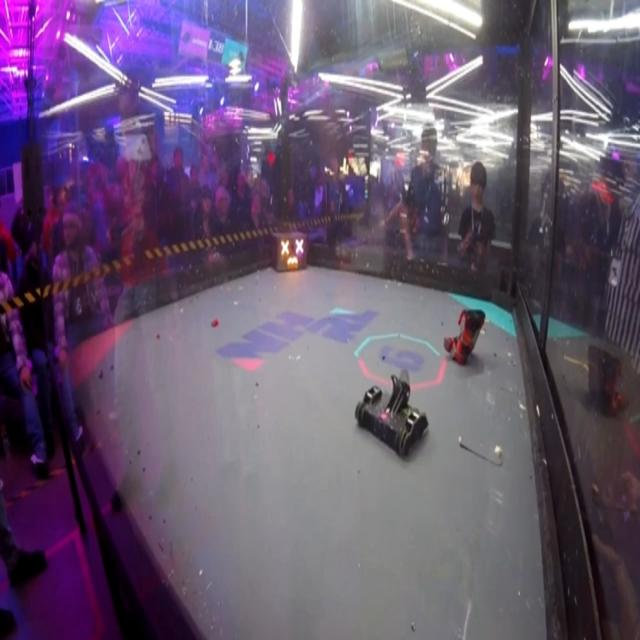brick: (267, 227, 308, 274)
